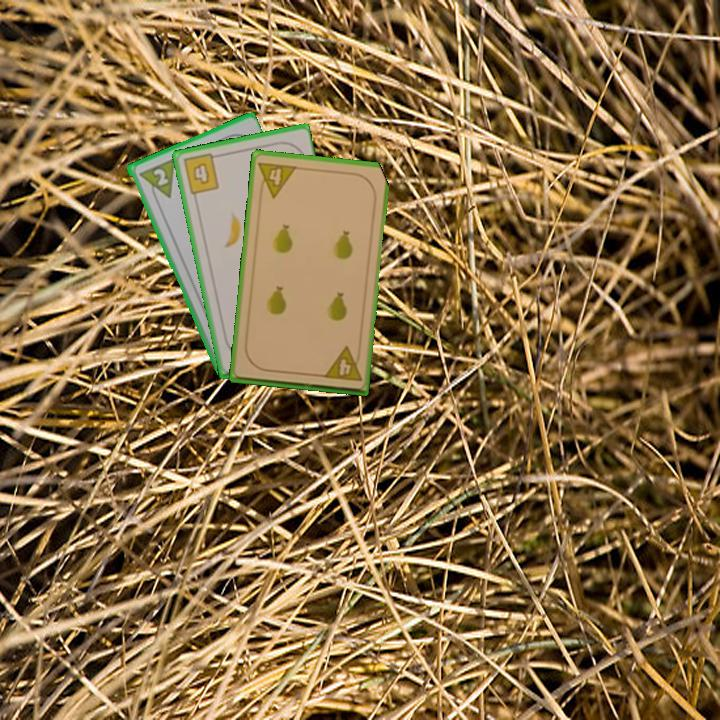2p: (135, 155, 177, 206)
4b: (179, 150, 222, 197)
4p: (255, 158, 300, 201), (320, 343, 364, 384)
